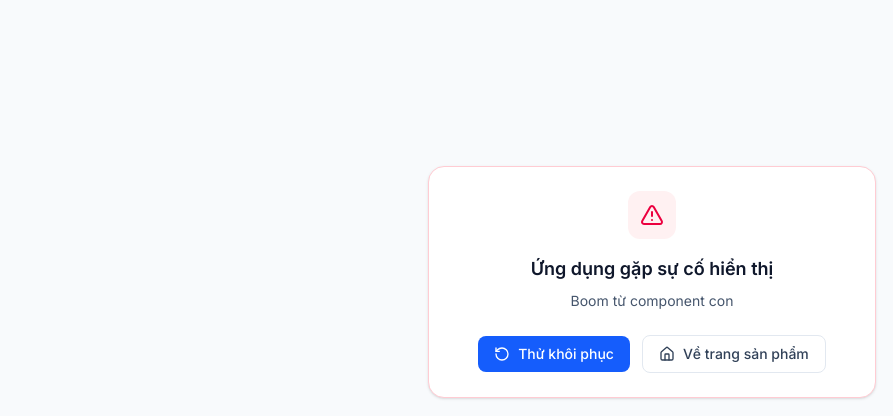
it: ErrorBoundary › nút "Thử khôi phục" render lại nội dung khi lỗi đã hết
The width and height of the screenshot is (893, 416).
Click the button "Thử khôi phục" at (554, 354), box [478,336,630,372]
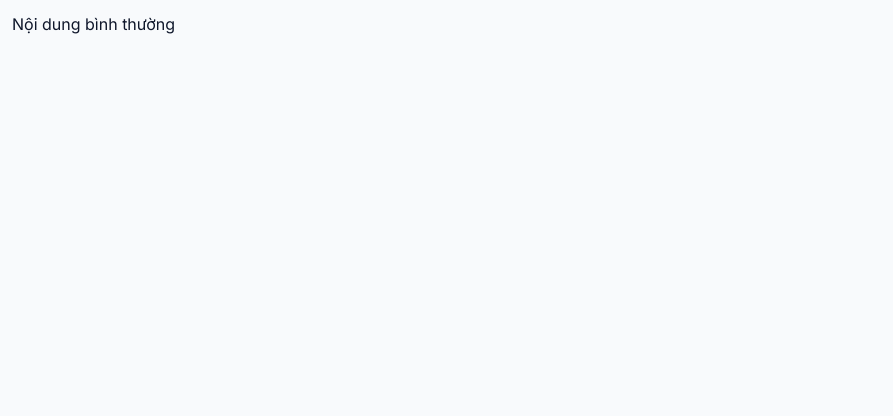
expect the text "Nội dung bình thường" is shown: met, box [12,14,175,34]
expect the message is gone: met
